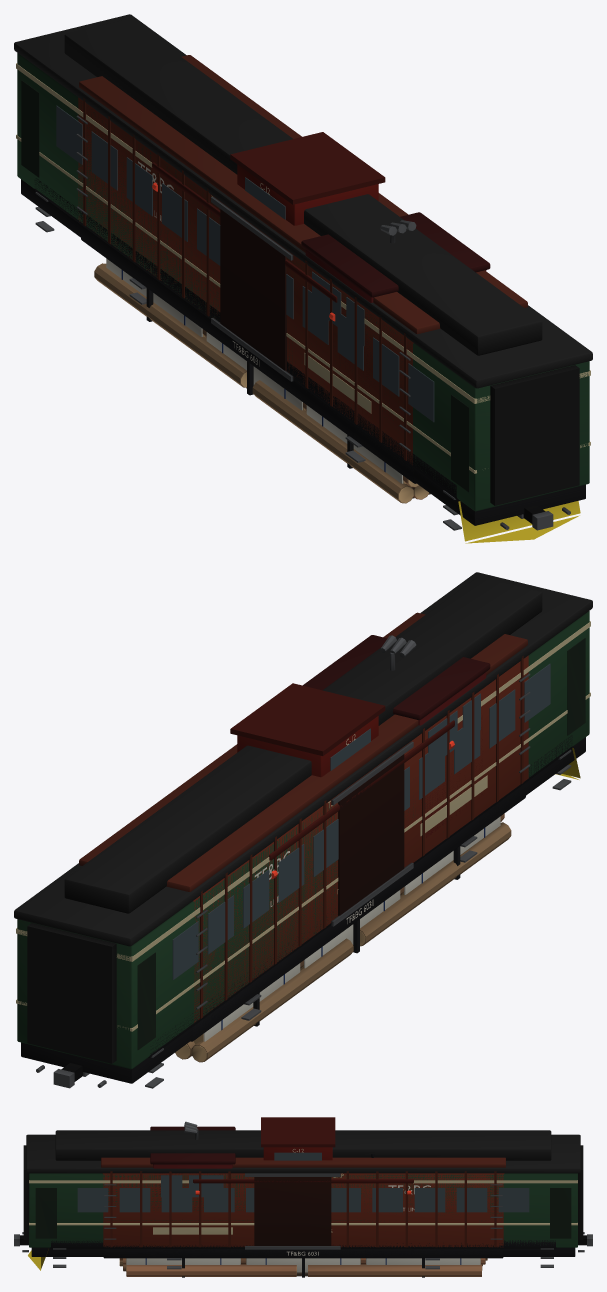
The model's file is train.glb.
3 renders of one model, top to bottom at view 1: azimuth 30°, elevation 25°; view 2: azimuth 150°, elevation 25°; view 3: azimuth 270°, elevation 25°, orthographic. The views are drawn at different scales.
Visible parts, largest first — view 1: coach_LOD0, boxcar_LOD0, loco_LOD0, caboose_LOD0, logs_LOD0, flat_LOD0, lumber_LOD0; view 2: coach_LOD0, boxcar_LOD0, caboose_LOD0, loco_LOD0, logs_LOD0, lumber_LOD0, flat_LOD0; view 3: coach_LOD0, boxcar_LOD0, loco_LOD0, caboose_LOD0, logs_LOD0, flat_LOD0, lumber_LOD0.
Part boxes in pixels (x1,y1,x2,y2): coach_LOD0: [14, 14, 592, 530]; boxcar_LOD0: [76, 55, 527, 478]; loco_LOD0: [34, 178, 580, 543]; caboose_LOD0: [128, 132, 385, 462]; logs_LOD0: [94, 263, 428, 503]; flat_LOD0: [81, 228, 416, 483]; lumber_LOD0: [106, 258, 430, 498]; coach_LOD0: [14, 572, 592, 1088]; boxcar_LOD0: [79, 612, 530, 1034]; caboose_LOD0: [230, 683, 478, 1020]; loco_LOD0: [83, 635, 580, 1088]; logs_LOD0: [175, 813, 511, 1062]; lumber_LOD0: [193, 816, 500, 1044]; flat_LOD0: [190, 787, 525, 1041]; coach_LOD0: [14, 1130, 592, 1256]; boxcar_LOD0: [101, 1157, 505, 1256]; loco_LOD0: [28, 1121, 556, 1270]; caboose_LOD0: [160, 1117, 446, 1269]; logs_LOD0: [119, 1258, 487, 1277]; flat_LOD0: [103, 1249, 503, 1258]; lumber_LOD0: [126, 1258, 480, 1276].
Size of what is drawn, in the model's own units: 3.18 by 5.71 by 21.72.
